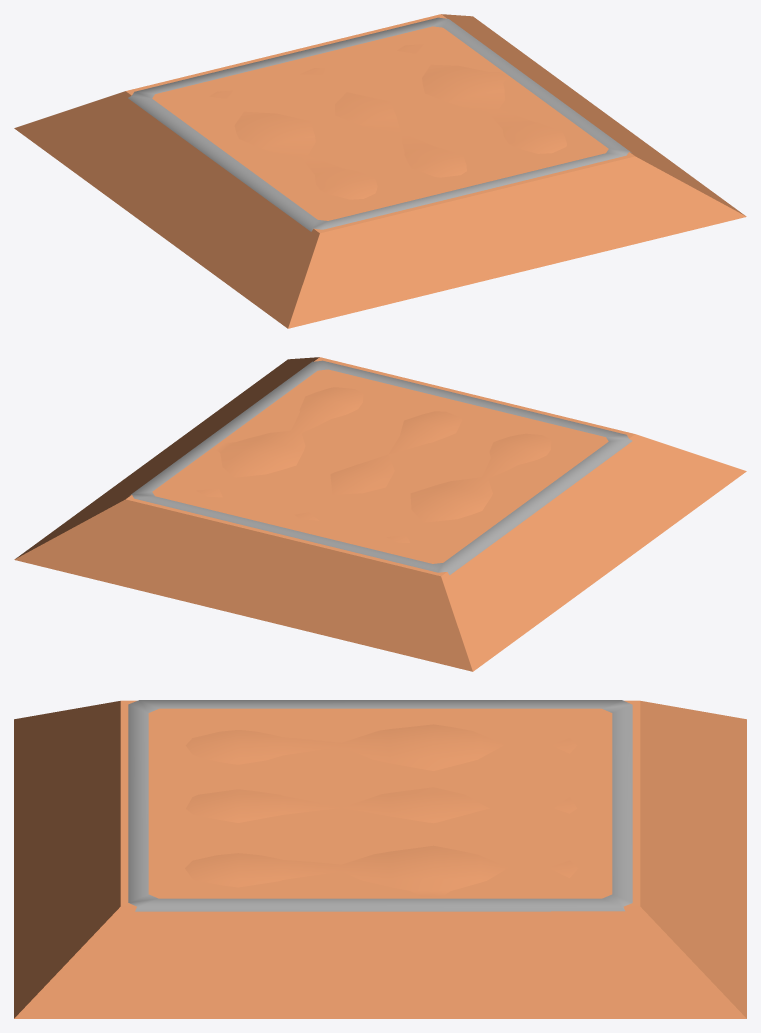
The model's file is Field2.fbx.
3 renders of one model, top to bottom at view 1: azimuth 30°, elevation 25°; view 2: azimuth 150°, elevation 25°; view 3: azimuth 270°, elevation 25°, orthographic. The views are drawn at different scales.
Visible parts, largest first — view 1: pCube1, Field2; view 2: pCube1, Field2; view 3: pCube1, Field2.
Part boxes in pixels (<box>): pCube1: <box>14,14,746,328</box>; Field2: <box>128,17,631,231</box>; pCube1: <box>14,357,746,671</box>; Field2: <box>129,360,632,574</box>; pCube1: <box>14,700,746,1018</box>; Field2: <box>128,700,632,911</box>.
Size of the model in its own units: 6.14 by 0.6641 by 6.35.
Materials: 2 (1 with a texture image).
